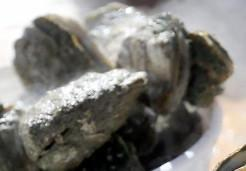3: (114, 14, 190, 118), (15, 14, 111, 96), (184, 31, 235, 107)
Oyster-Closed: (17, 69, 148, 169)
Oyster-Open: (88, 4, 152, 69), (0, 118, 30, 171)
